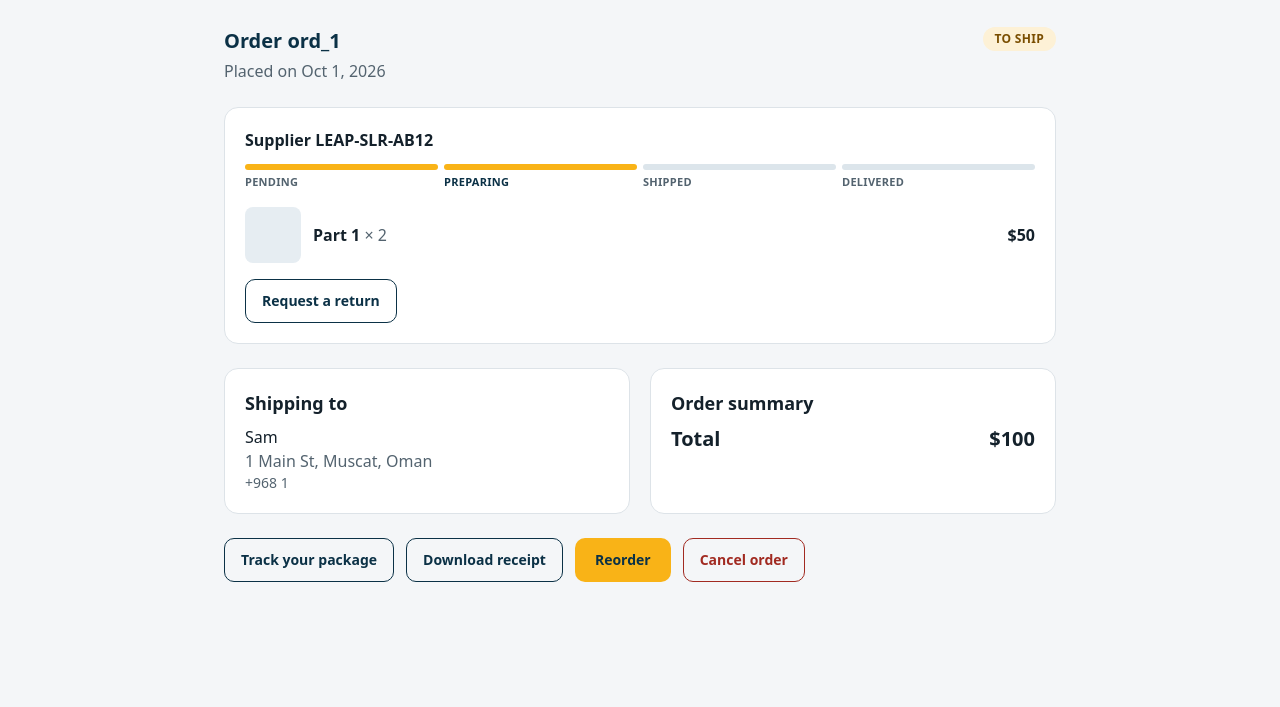
Test case: order detail: cancelling › a refusal from the server (a part shipped meanwhile) is shown and the order is left as it was
This screenshot has width=1280, height=707.
Expected: the heading "Order ord_1" is shown, [224,27,341,54]
Click the button "Cancel order": [744, 560] box [683,538,805,582]
(page scrolled)
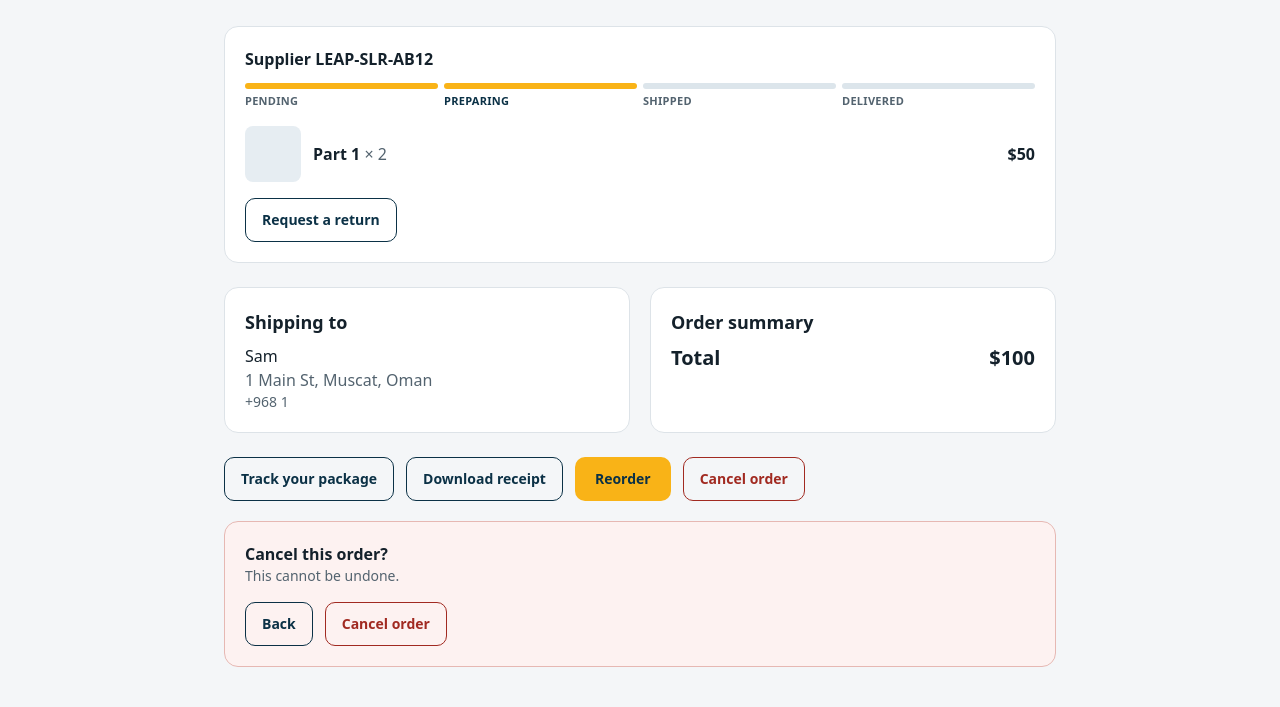
Click the button "Cancel order" below "This cannot be undone.": [386, 624] box [325,602,447,646]
(page scrolled)
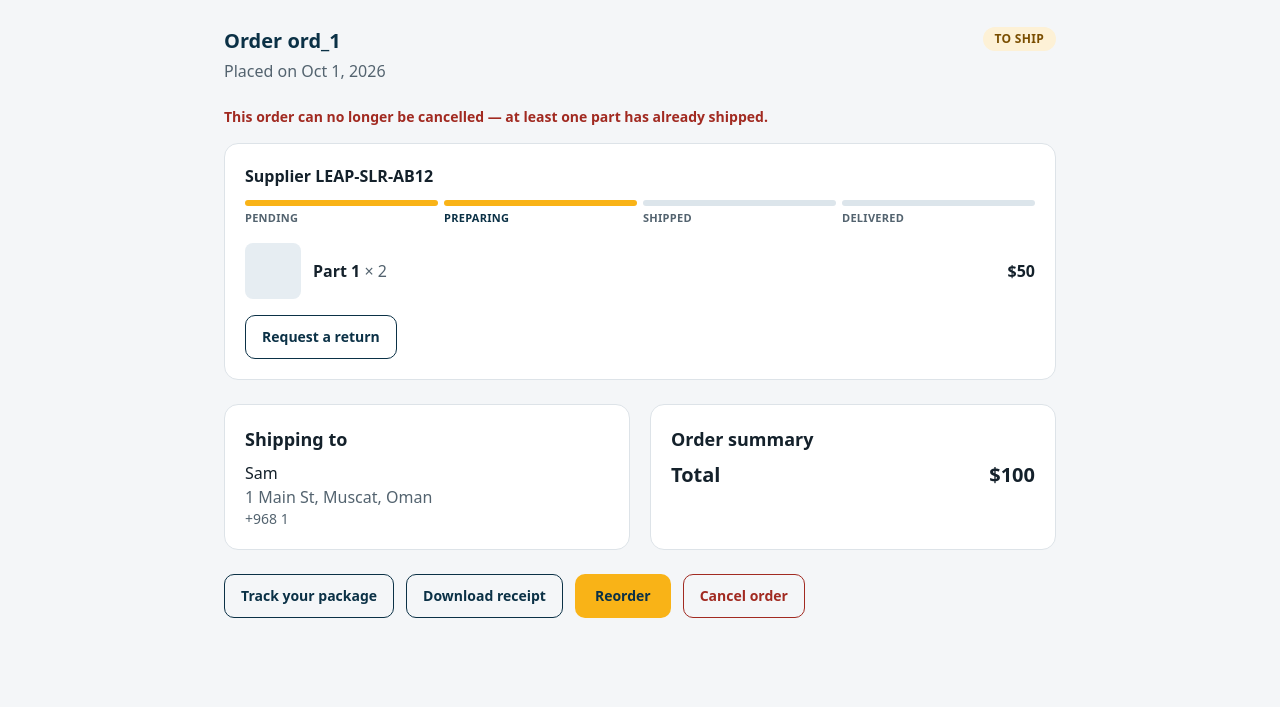
Now the message shows "at least one part has already shipped", box [224,107,768,126]
